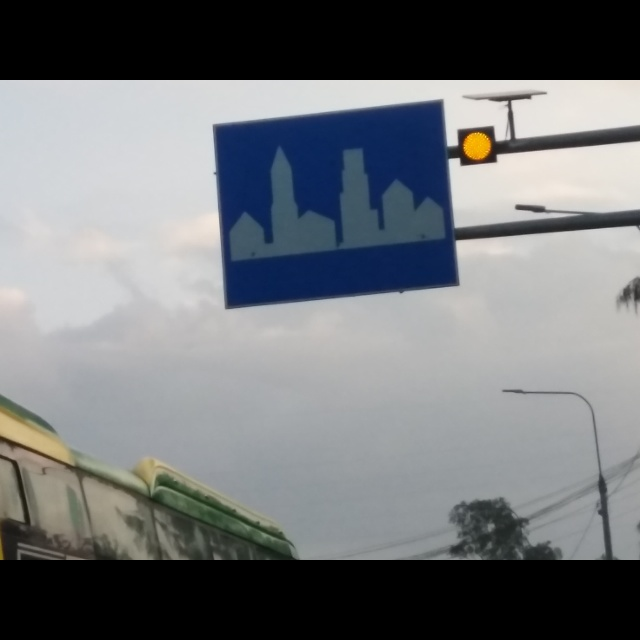Khu đông dân cư: (208, 100, 462, 313)
